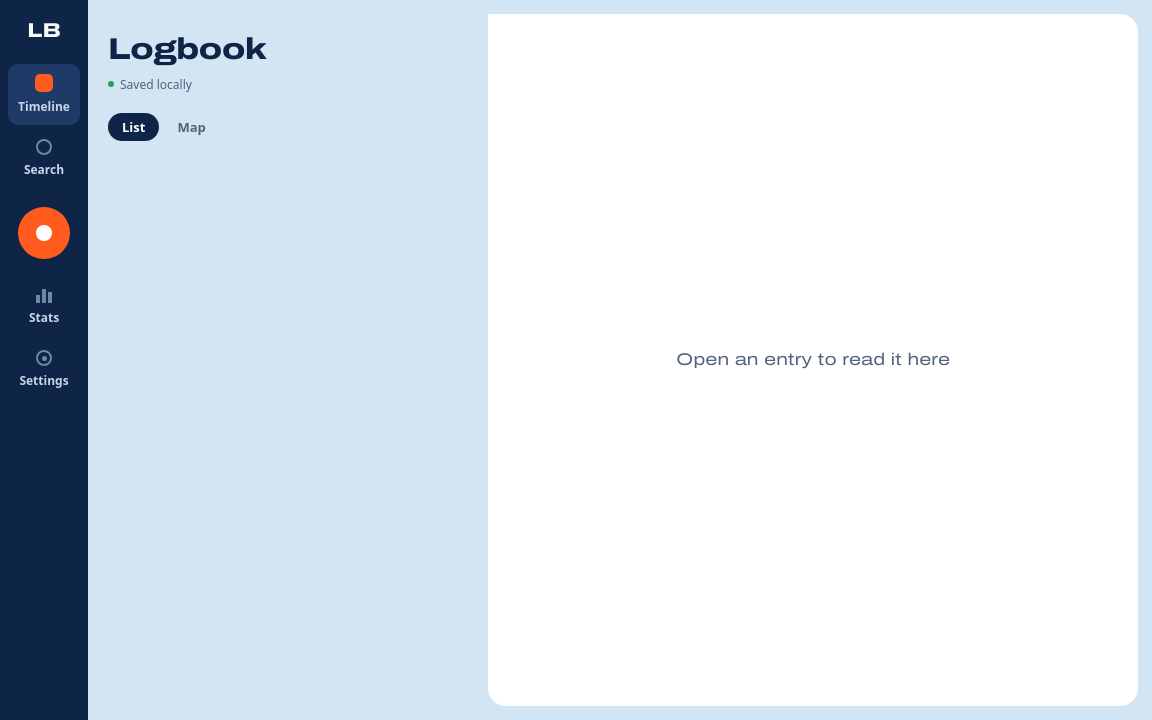
App › creates an entry through the type-to-extract flow
The width and height of the screenshot is (1152, 720).
Click the button named "new entry": (44, 233) x1=18 y1=207 x2=70 y2=259
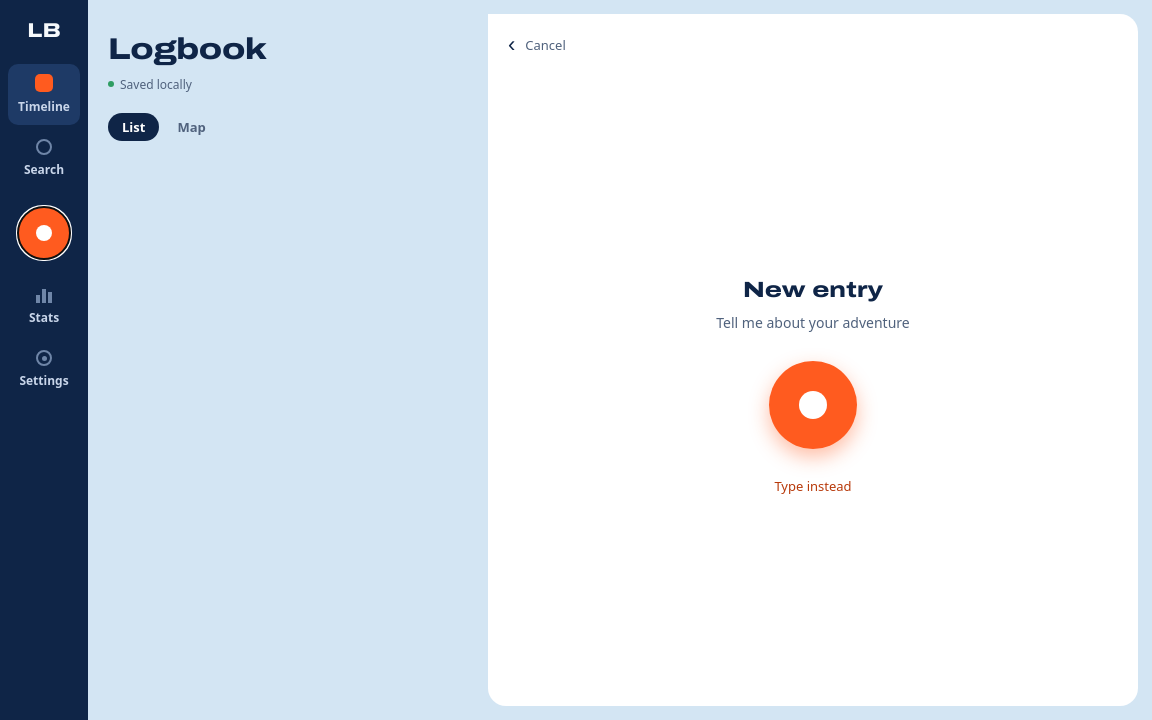
Now the text "New entry" is shown, box x1=743 y1=278 x2=883 y2=302
Click the button "Type instead": (813, 486) x1=774 y1=477 x2=852 y2=495
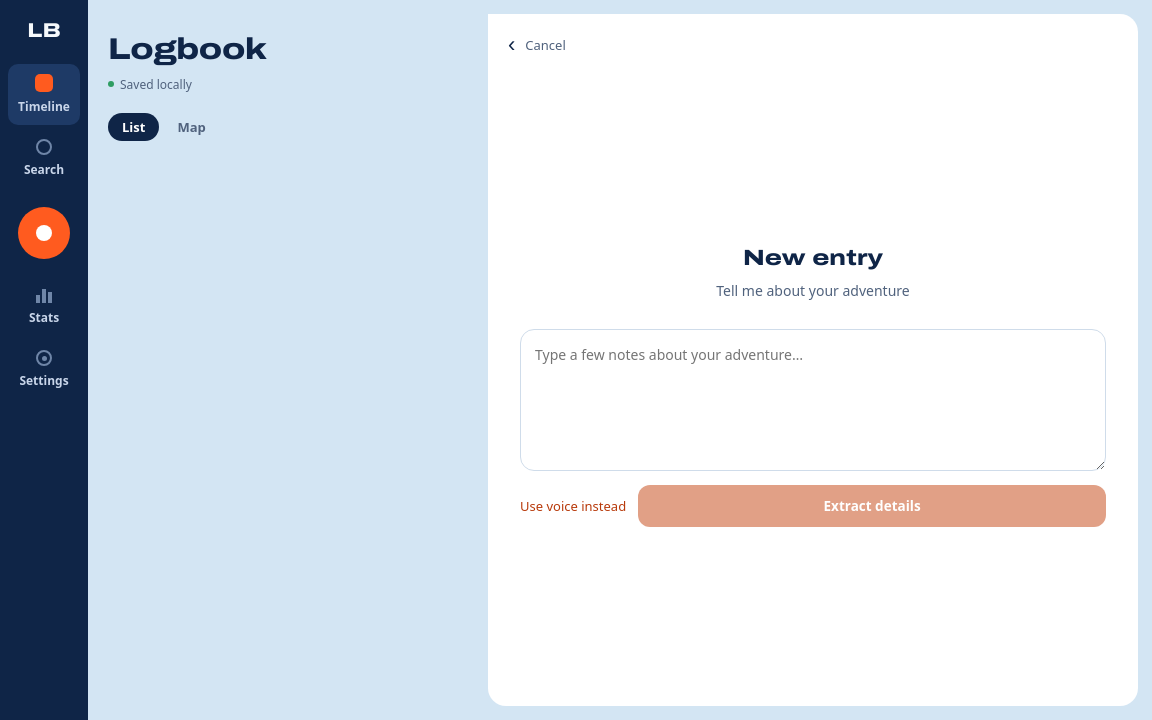
In the text box named "Adventure notes": (813, 400) x1=520 y1=329 x2=1106 y2=471, type "Sunset trail run today"
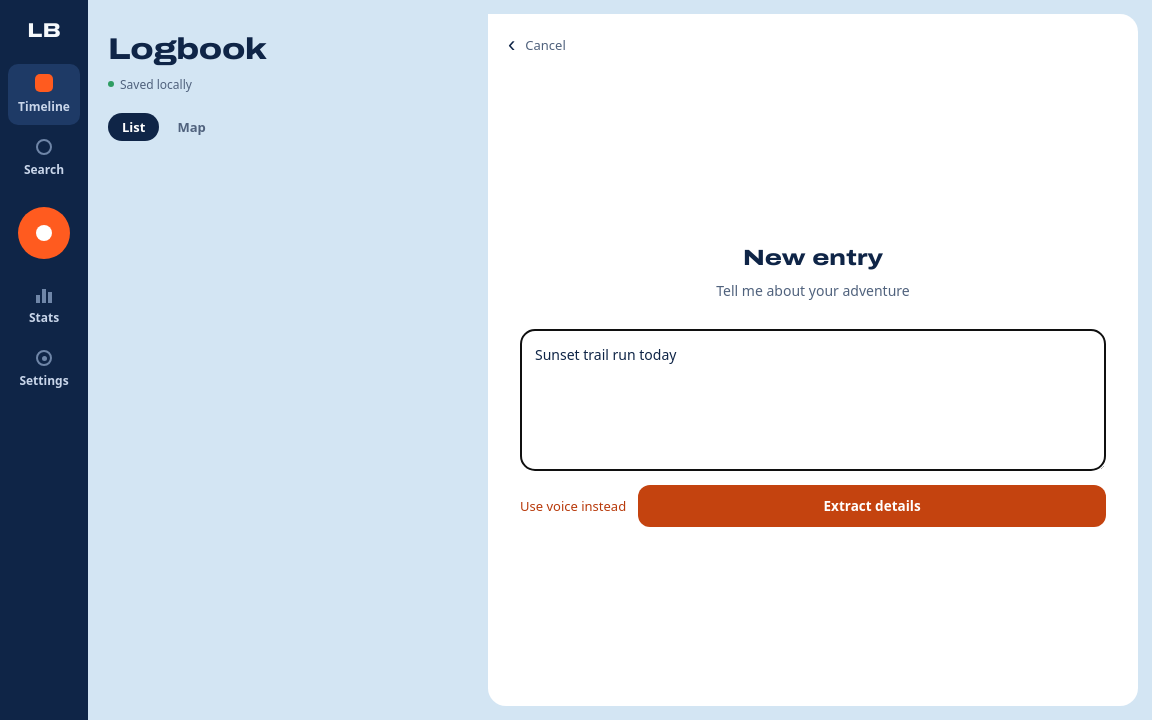
Click the button "Extract details": (872, 506) x1=638 y1=485 x2=1106 y2=527
(page scrolled)
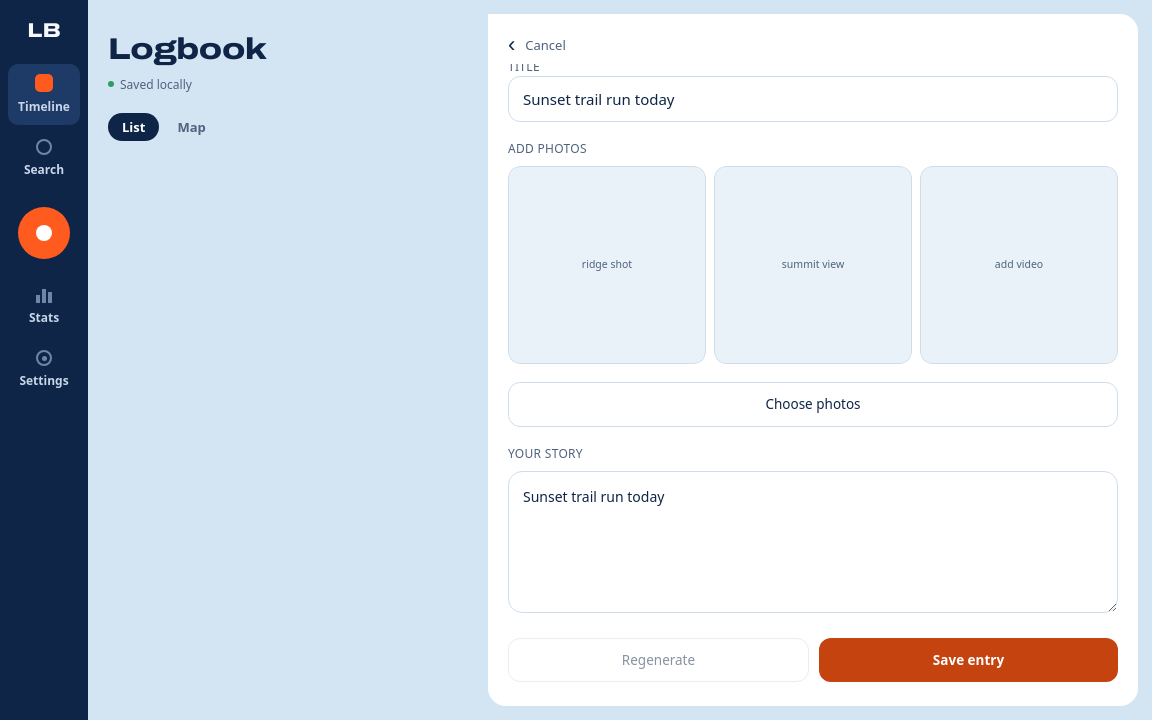
Click the button "Save entry": (968, 660) x1=819 y1=638 x2=1118 y2=682
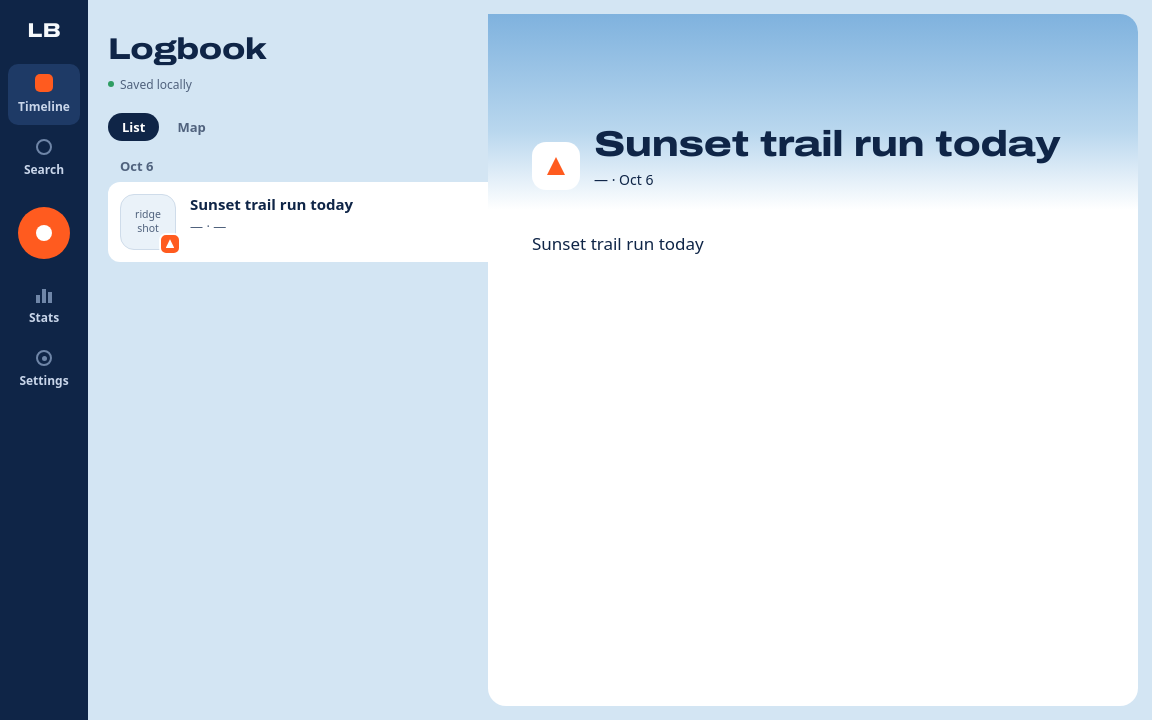
Expected: the text "Saved locally" is shown, x1=120 y1=76 x2=192 y2=93
Now the text "Sunset trail run today" below "Saved locally" is shown, box x1=190 y1=194 x2=353 y2=214
